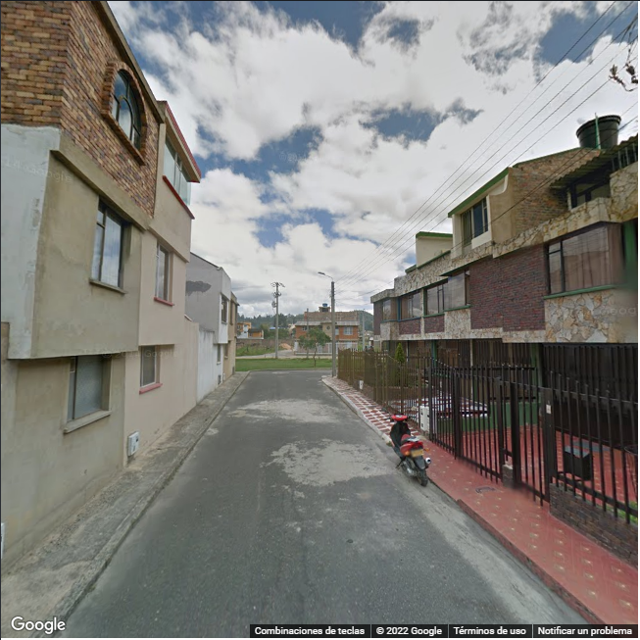D00: (454, 529, 561, 624), (290, 478, 320, 599)
